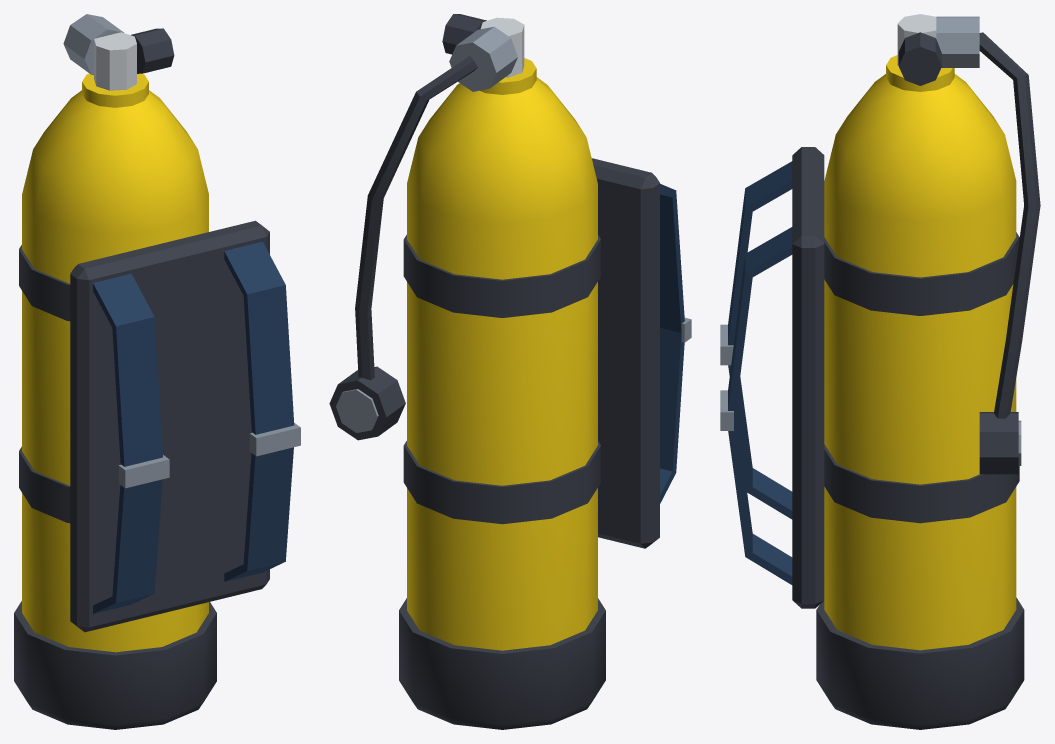
The model's file is scuba_tank.glb.
3 views of the same model, side by side, from view 1: azimuth 30°, elevation 25°; view 2: azimuth 150°, elevation 25°; view 3: azimuth 270°, elevation 25° (orthographic). The views are drawn at different scales.
Visible parts, largest first — view 1: Body; view 2: Body; view 3: Body.
Part boxes in pixels (<box>): Body: <box>14,14,300,729</box>; Body: <box>329,14,691,729</box>; Body: <box>720,14,1040,729</box>.
Size of the model in its own units: 0.226 by 0.648 by 0.2802.
